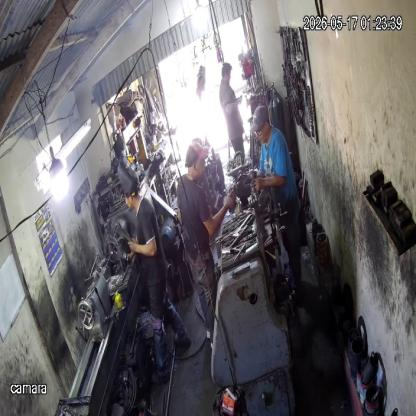lentes: (254, 120, 264, 132)
